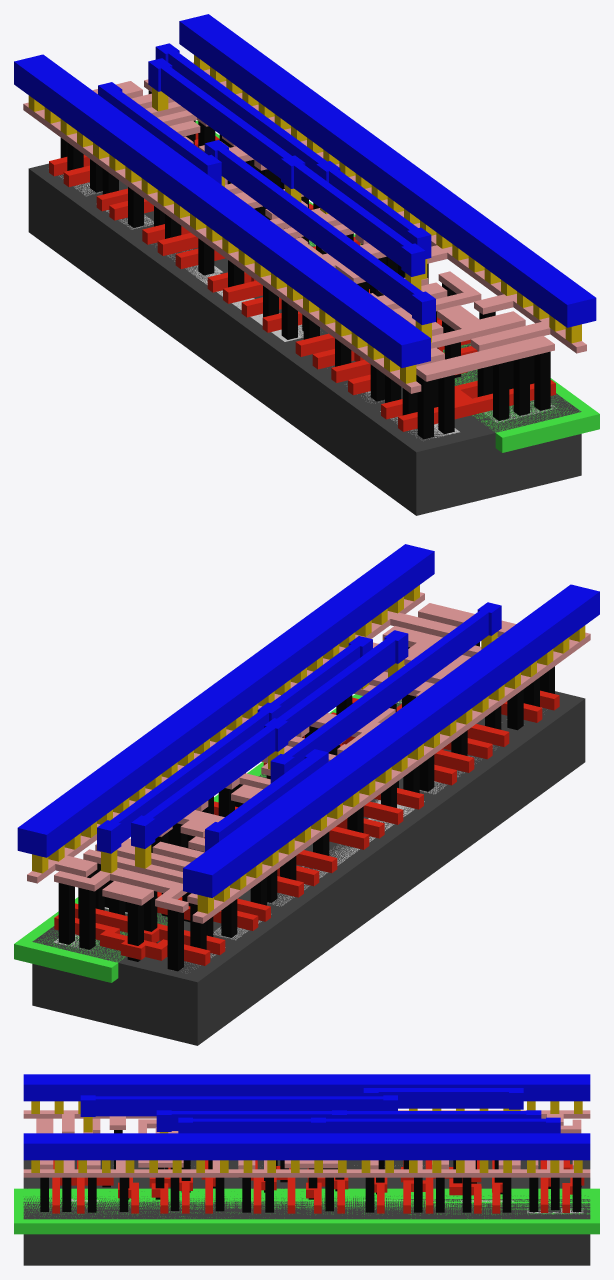
The model's file is sky130_fd_sc_hd__edfxtp_1.obj.
The picture shows the model from 3 angles, top to bottom: view 1: azimuth 30°, elevation 25°; view 2: azimuth 150°, elevation 25°; view 3: azimuth 270°, elevation 25°; orthographic projection. The views are drawn at different scales.
Parts seen in each view (by area): view 1: metal1, subs, li, licon, poly, mcon, nwell, diff; view 2: metal1, subs, li, licon, poly, mcon, nwell, diff; view 3: metal1, subs, nwell, li, poly, licon, mcon.
Boxes of the visible parts, left/top/right/bottom form: metal1: left=14, top=14, right=596, bottom=367; subs: left=28, top=163, right=581, bottom=515; li: left=23, top=62, right=586, bottom=393; licon: left=60, top=90, right=550, bottom=438; poly: left=49, top=133, right=555, bottom=431; mcon: left=28, top=55, right=581, bottom=383; nwell: left=195, top=120, right=599, bottom=452; diff: left=59, top=174, right=459, bottom=439; metal1: left=17, top=544, right=599, bottom=897; subs: left=32, top=691, right=585, bottom=1045; li: left=27, top=592, right=590, bottom=923; licon: left=58, top=642, right=554, bottom=971; poly: left=54, top=690, right=559, bottom=965; mcon: left=32, top=585, right=585, bottom=913; nwell: left=14, top=694, right=401, bottom=982; diff: left=182, top=756, right=481, bottom=971; metal1: left=23, top=1074, right=590, bottom=1160; subs: left=23, top=1160, right=590, bottom=1265; nwell: left=14, top=1188, right=599, bottom=1234; li: left=23, top=1110, right=590, bottom=1177; poly: left=52, top=1160, right=584, bottom=1213; licon: left=40, top=1130, right=581, bottom=1212; mcon: left=31, top=1101, right=582, bottom=1172.
Bounding box in the file's own units: 3.2 × 2.74 × 11.42.
